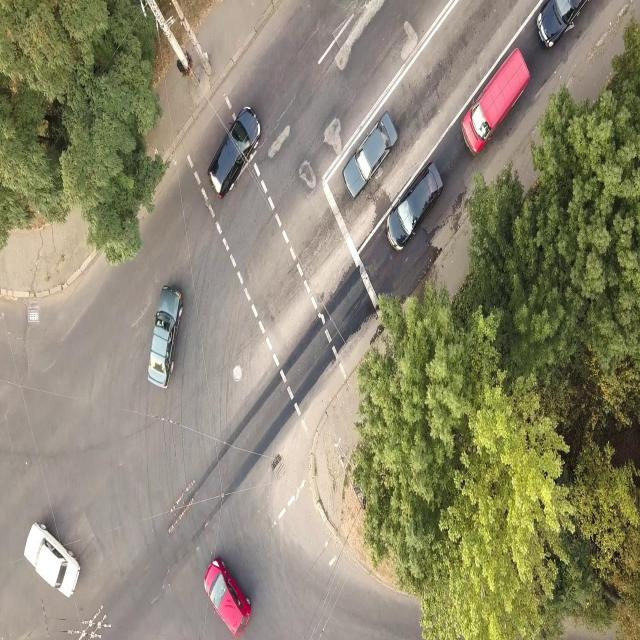Car: (382, 155, 445, 258), (340, 102, 402, 202), (20, 520, 82, 602), (144, 279, 187, 391), (200, 551, 253, 640)
Van: (458, 48, 534, 162), (207, 101, 264, 203)
